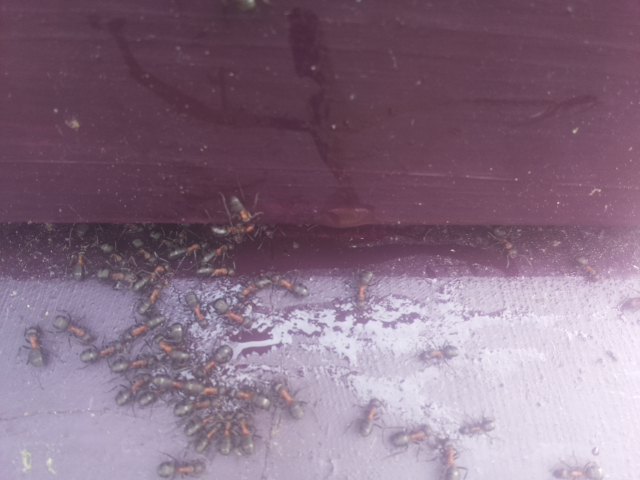ant: (214, 182, 280, 252), (84, 309, 156, 370), (171, 338, 238, 388), (46, 301, 101, 357), (106, 369, 166, 412), (245, 266, 312, 304), (133, 265, 179, 320), (265, 374, 312, 426), (168, 389, 230, 420), (149, 451, 213, 480), (18, 320, 53, 372), (383, 420, 433, 452), (482, 222, 524, 260), (182, 283, 213, 331), (208, 294, 250, 327), (356, 393, 384, 442), (213, 415, 241, 460), (351, 265, 376, 313), (234, 411, 257, 460), (417, 338, 460, 364), (457, 413, 500, 439), (69, 243, 93, 286), (108, 356, 155, 377), (439, 439, 460, 480), (572, 254, 598, 282)
